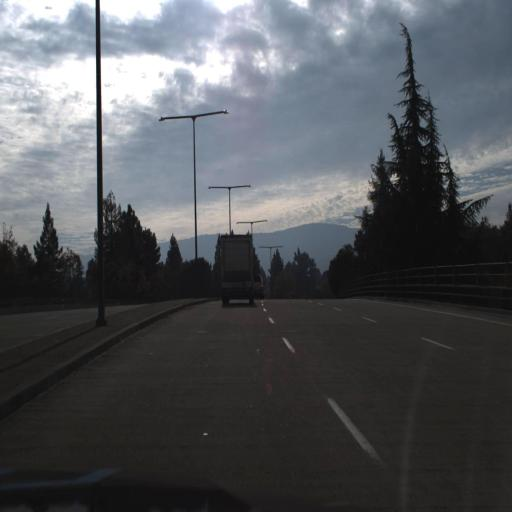car: (253, 271, 266, 298)
truck: (220, 232, 253, 307)
